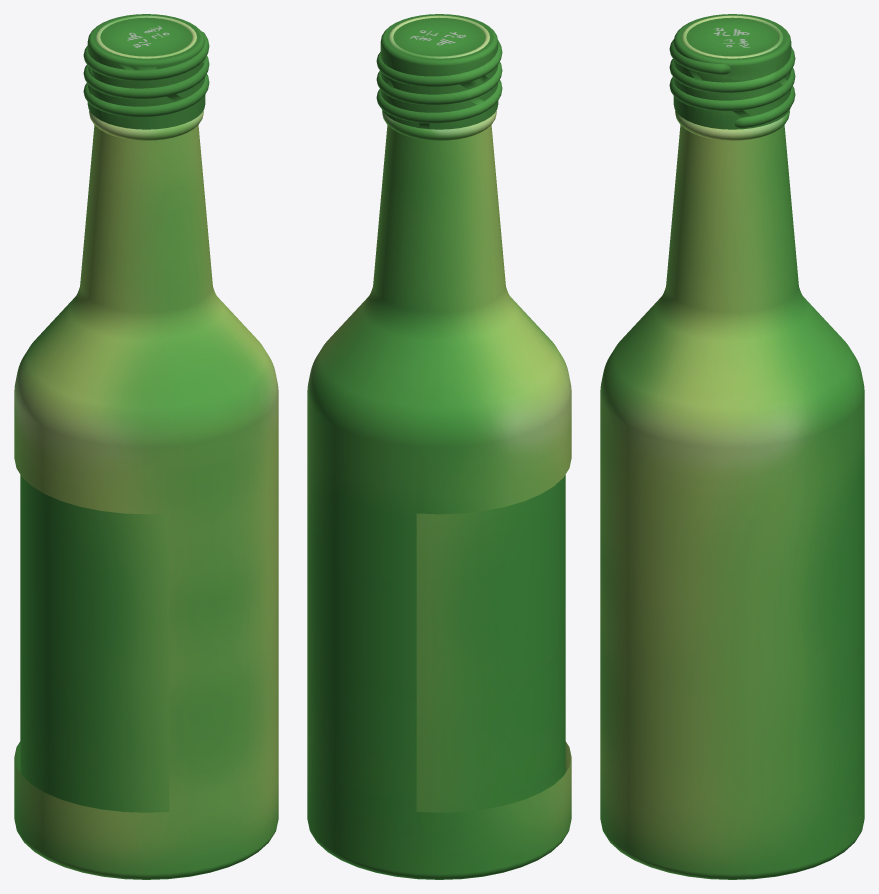
The model's file is soju.fbx.
3 renders of one model, left to right at view 1: azimuth 30°, elevation 25°; view 2: azimuth 150°, elevation 25°; view 3: azimuth 270°, elevation 25°, orthographic.
Visible parts, largest first — view 1: Component#18 [5836101], Component#13 [5836104]; view 2: Component#18 [5836101], Component#13 [5836104]; view 3: Component#18 [5836101], Component#13 [5836104].
Boxes of the visible parts, x1,y1,x2,y2 form: Component#18 [5836101]: (14, 15, 278, 879); Component#13 [5836104]: (83, 14, 209, 129); Component#18 [5836101]: (307, 15, 571, 879); Component#13 [5836104]: (376, 14, 502, 129); Component#18 [5836101]: (600, 15, 864, 879); Component#13 [5836104]: (669, 14, 795, 129).
Size of the model in its own units: 2.68 by 8.87 by 2.68.
3 materials, 3 textured.
